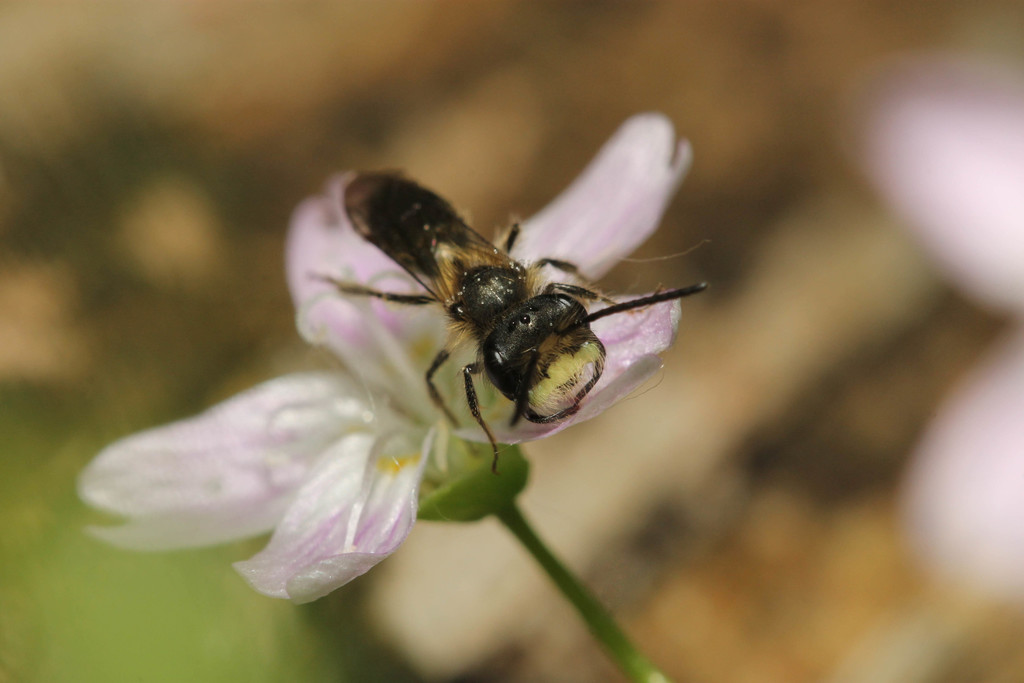not_bumblebee: (305, 169, 707, 477)
